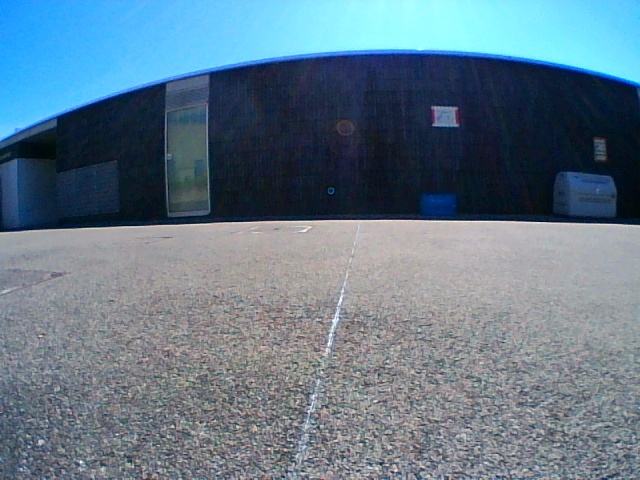blue_box: (422, 195, 455, 217)
